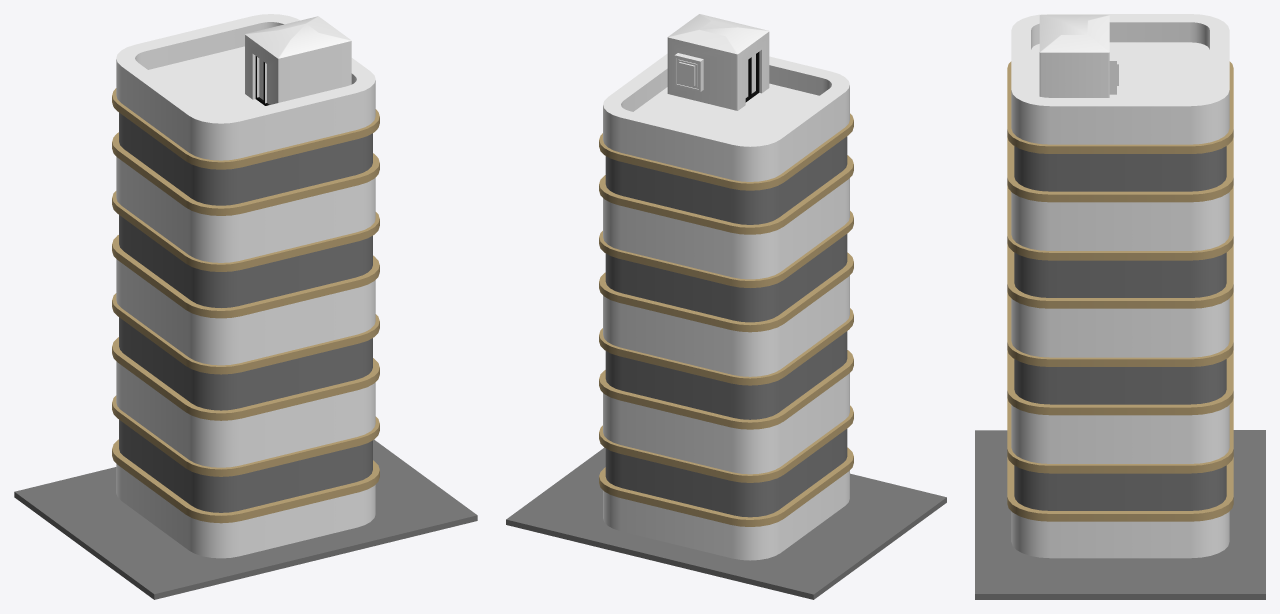
File: LiftParking.fbx
3 views of the same model, side by side, from view 1: azimuth 30°, elevation 25°; view 2: azimuth 150°, elevation 25°; view 3: azimuth 270°, elevation 25° (orthographic). The views are drawn at different scales.
Parts seen in each view (by area): view 1: Cube.105, Plane.041; view 2: Cube.105, Plane.041; view 3: Cube.105, Plane.041.
Boxes of the visible parts, x1=… form: Cube.105: x1=112, y1=14, x2=379, y2=558; Plane.041: x1=14, y1=439, x2=477, y2=599; Cube.105: x1=599, y1=14, x2=853, y2=560; Plane.041: x1=506, y1=447, x2=946, y2=599; Cube.105: x1=1007, y1=14, x2=1233, y2=558; Plane.041: x1=975, y1=430, x2=1265, y2=599.
Size of the model in its own units: 0.8533 by 1.23 by 0.6397.
